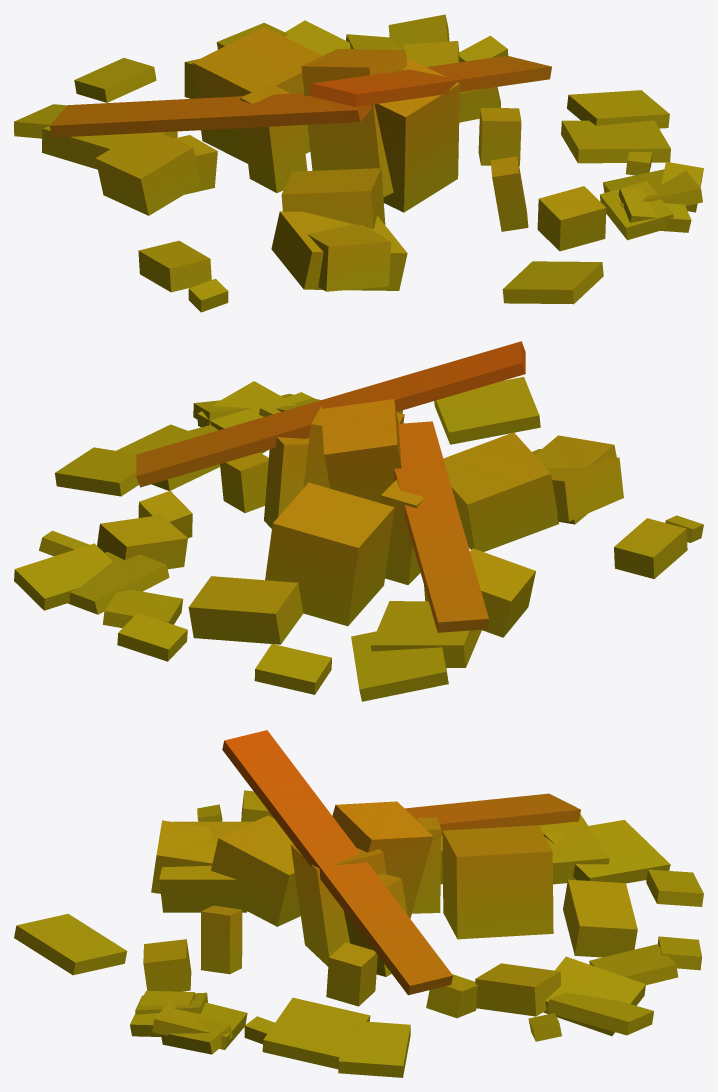
Rendered from SM_Debris_Gravats_Beton.fbx.
The picture shows the model from 3 angles, top to bottom: view 1: azimuth 30°, elevation 25°; view 2: azimuth 150°, elevation 25°; view 3: azimuth 270°, elevation 25°; orthographic projection. The views are drawn at different scales.
Parts seen in each view (by area): view 1: SM_Debris_Gravats_Beton_LOD0; view 2: SM_Debris_Gravats_Beton_LOD0; view 3: SM_Debris_Gravats_Beton_LOD0.
Boxes of the visible parts, x1,y1,x2,y2 form: SM_Debris_Gravats_Beton_LOD0: [14, 14, 703, 312]; SM_Debris_Gravats_Beton_LOD0: [14, 341, 703, 701]; SM_Debris_Gravats_Beton_LOD0: [14, 730, 703, 1077].
Size of what is drawn, in the model's own units: 1.72 by 0.5246 by 1.94.
